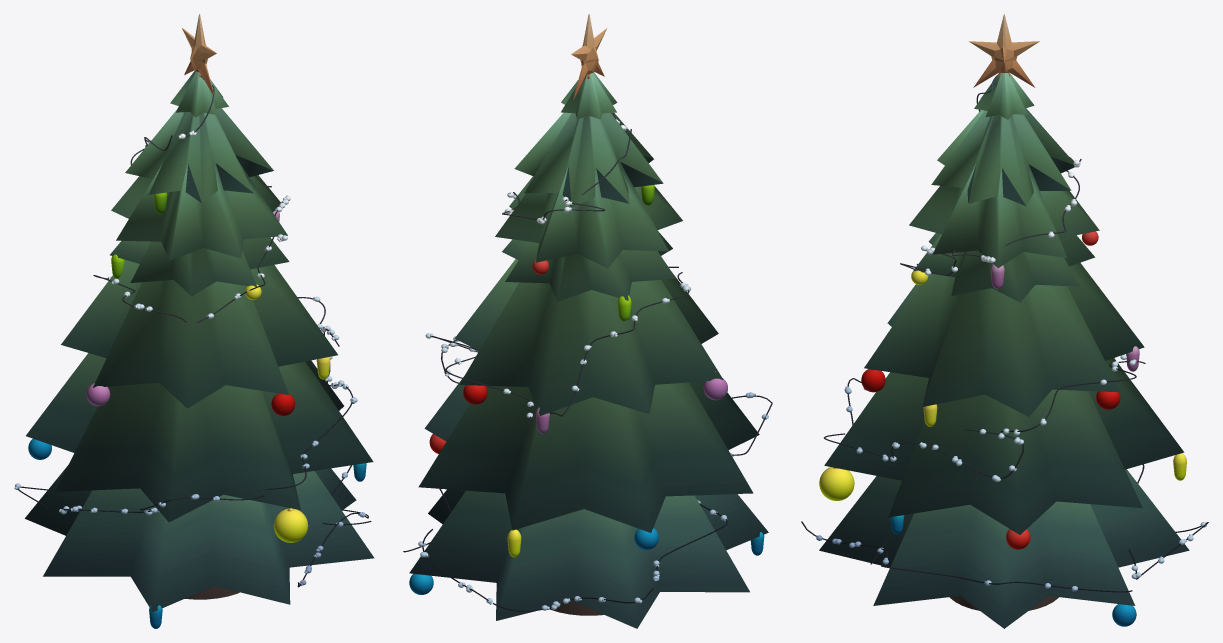
The model's file is Christmas_Tree.fbx.
3 renders of one model, left to right at view 1: azimuth 30°, elevation 25°; view 2: azimuth 150°, elevation 25°; view 3: azimuth 270°, elevation 25°, orthographic. The views are drawn at different scales.
Parts seen in each view (by area): view 1: Cylinder; view 2: Cylinder; view 3: Cylinder.
Boxes of the visible parts, x1,y1,x2,y2 form: Cylinder: [14, 14, 374, 628]; Cylinder: [403, 14, 772, 628]; Cylinder: [801, 14, 1208, 628].
Size of the model in its own units: 631 by 1077 by 693.
Materials: 1 (1 with a texture image).
